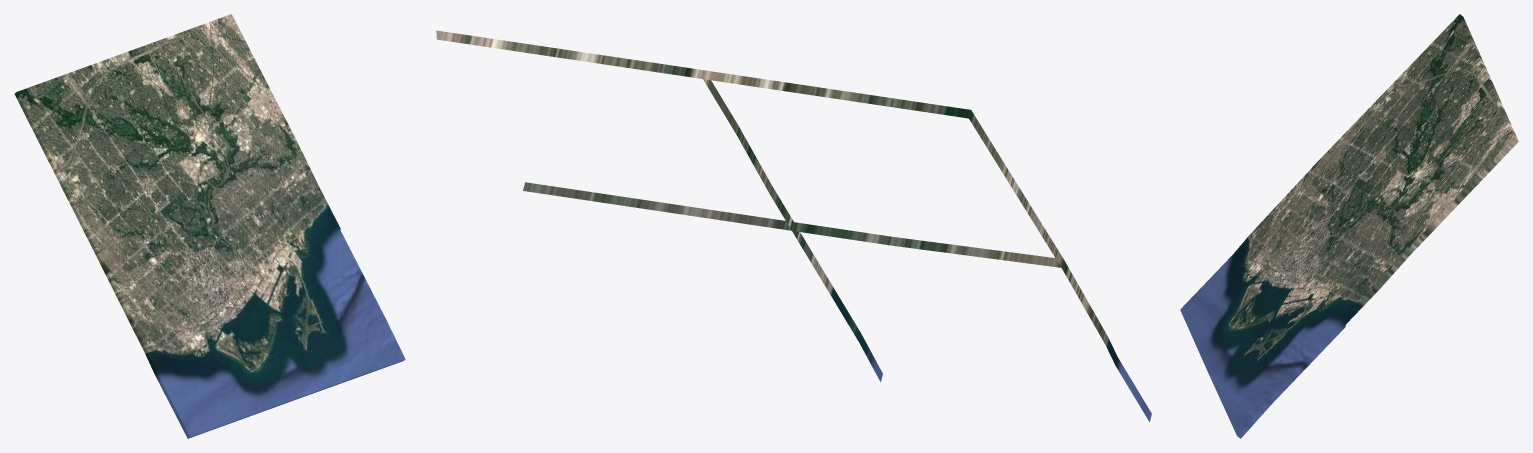
File: AJVsH2xXl3yq9S_3OATs0LPdxfYBBPYuUakrqepkwux57jr2HI94JB3wm6UuHvVF98iDWTYkNhQcxCUAv2rKMJ-DvIagzDOw24HwE5HNz_laN-N6clRE_M7rcz5E-OqIBDX7MpESM14SkUQT3ZYOPQU.glb
3 renders of one model, left to right at view 1: azimuth 30°, elevation 25°; view 2: azimuth 150°, elevation 25°; view 3: azimuth 270°, elevation 25°, orthographic. The views are drawn at different scales.
Size of the model in its own units: 16490 by 14546 by 16041.
Materials: 1 (1 with a texture image).
